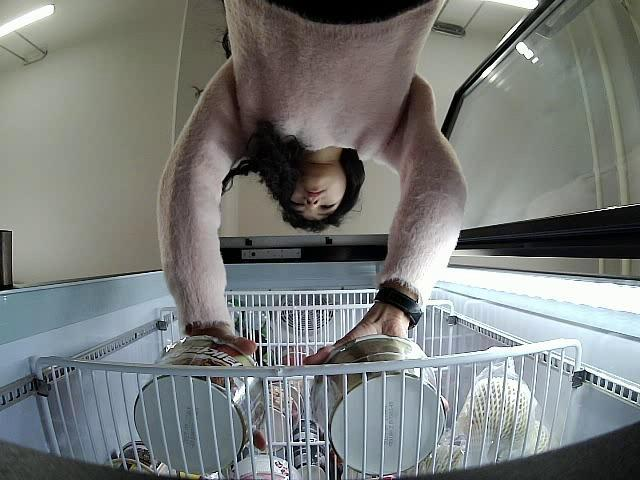03_chapagetti_L: (309, 336, 446, 473), (134, 338, 268, 472)
